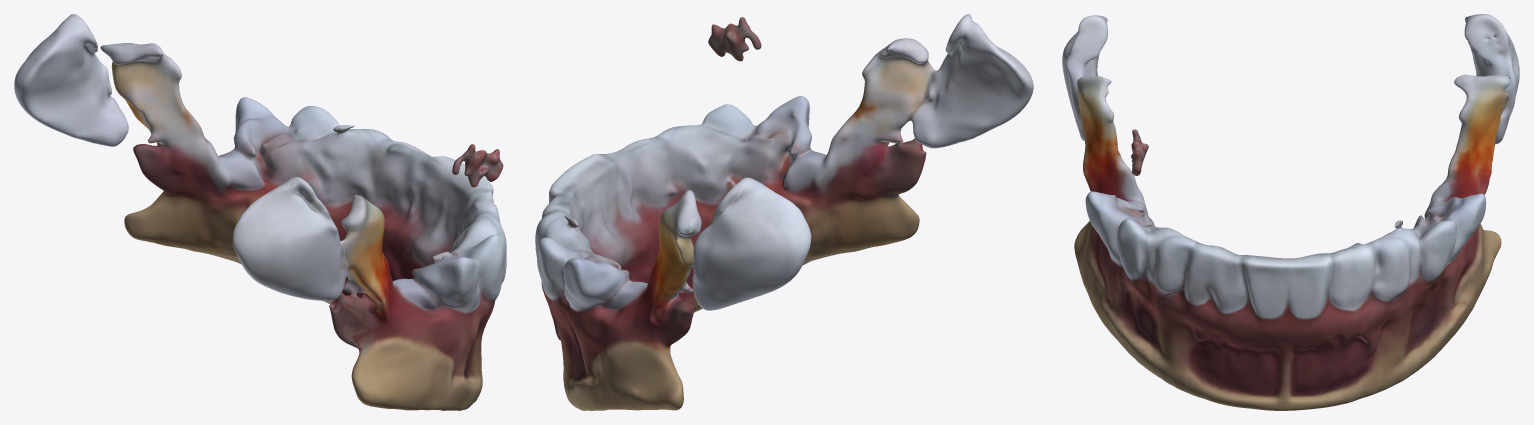
File: periodontitis.glb
The picture shows the model from 3 angles, left to right: view 1: azimuth 30°, elevation 25°; view 2: azimuth 150°, elevation 25°; view 3: azimuth 270°, elevation 25°; orthographic projection. The views are drawn at different scales.
Visible parts, largest first — view 1: world; view 2: world; view 3: world.
Part boxes in pixels (x1,y1,x2,y2): world: (14, 14, 506, 410); world: (535, 14, 1033, 410); world: (1062, 14, 1519, 410).
Size of the model in its own units: 0.3905 by 0.3403 by 0.4971.
Materials: 1 (1 with a texture image).
